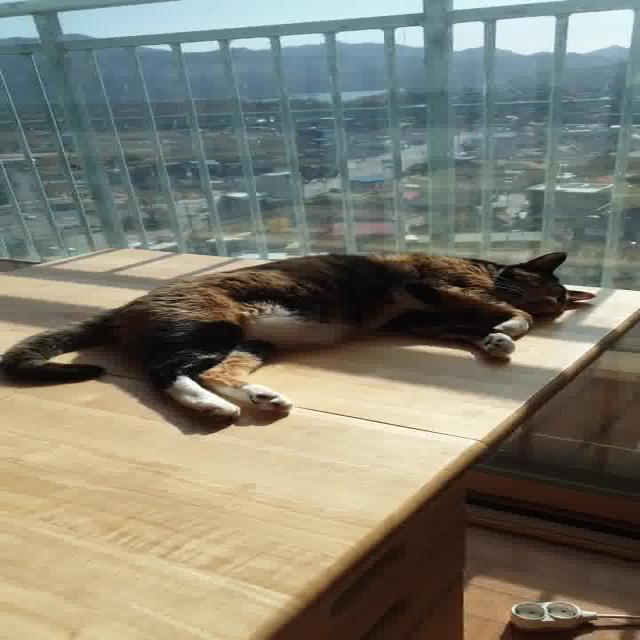cat: (3, 242, 604, 428)
